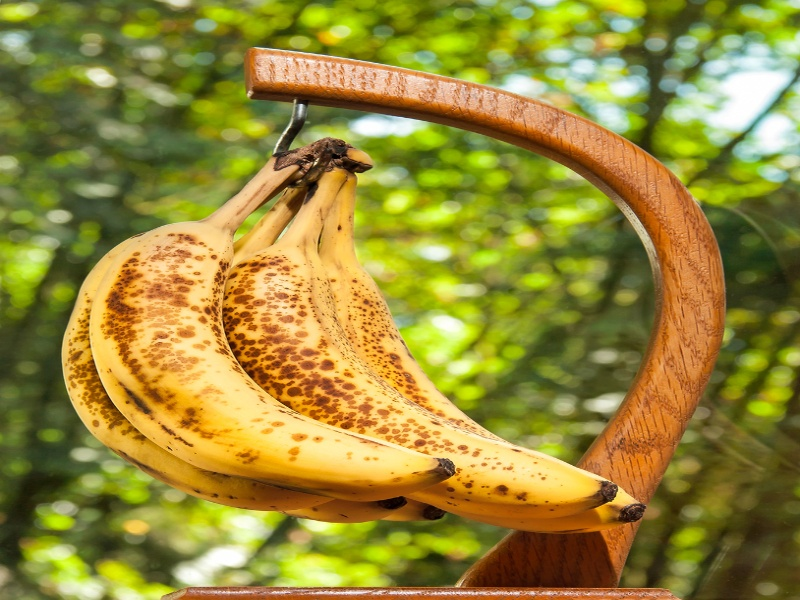banana: (54, 141, 660, 546)
